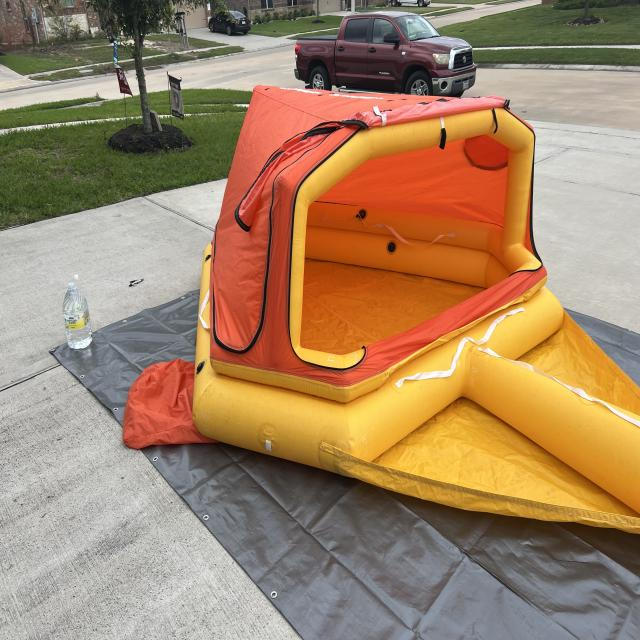Multi-person_life_raft: (124, 83, 639, 534)
